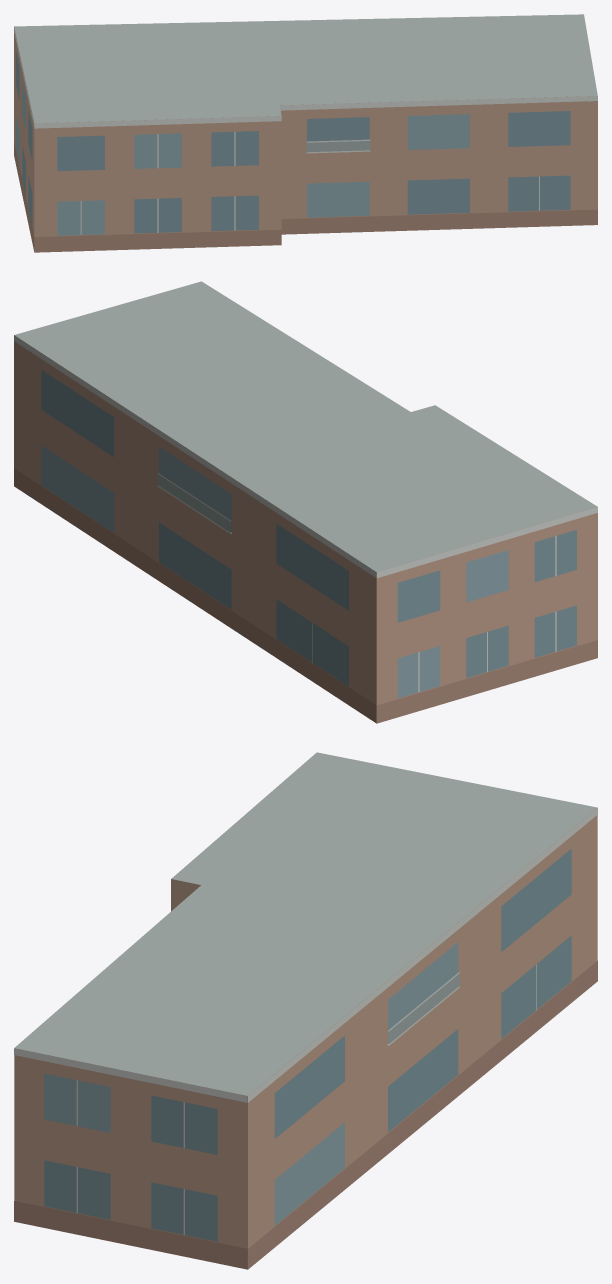
The model's file is survey-upis-32808792.glb.
3 renders of one model, top to bottom at view 1: azimuth 30°, elevation 25°; view 2: azimuth 150°, elevation 25°; view 3: azimuth 270°, elevation 25°, orthographic. The views are drawn at different scales.
Visible parts, largest first — view 1: survey-upis-32808792.tmp; view 2: survey-upis-32808792.tmp; view 3: survey-upis-32808792.tmp.
Boxes of the visible parts, x1,y1,x2,y2 form: survey-upis-32808792.tmp: (14, 14, 597, 252); survey-upis-32808792.tmp: (14, 281, 597, 723); survey-upis-32808792.tmp: (14, 752, 597, 1269).
Bounding box in the file's own units: 25.91 × 6.1 × 18.6.
